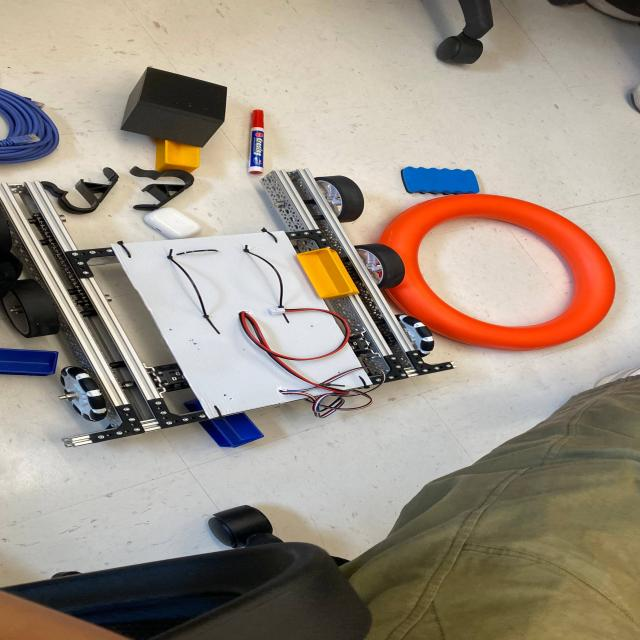blue-specimen: (200, 413, 264, 447), (0, 348, 58, 376), (184, 399, 203, 412)
yellow-specimen: (297, 248, 359, 299), (153, 138, 200, 173)
